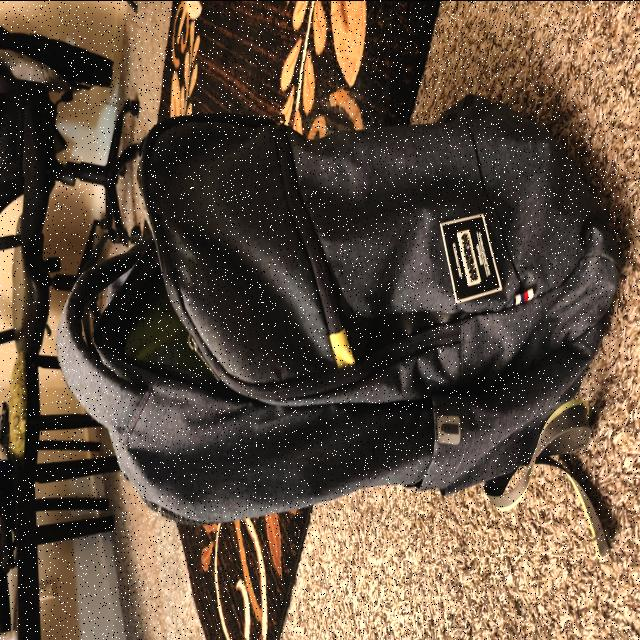bag: (59, 104, 613, 528)
